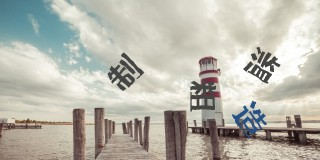制: (107, 53, 145, 90)
滥: (243, 46, 282, 84)
粗: (187, 79, 217, 111)
造: (232, 101, 266, 138)
